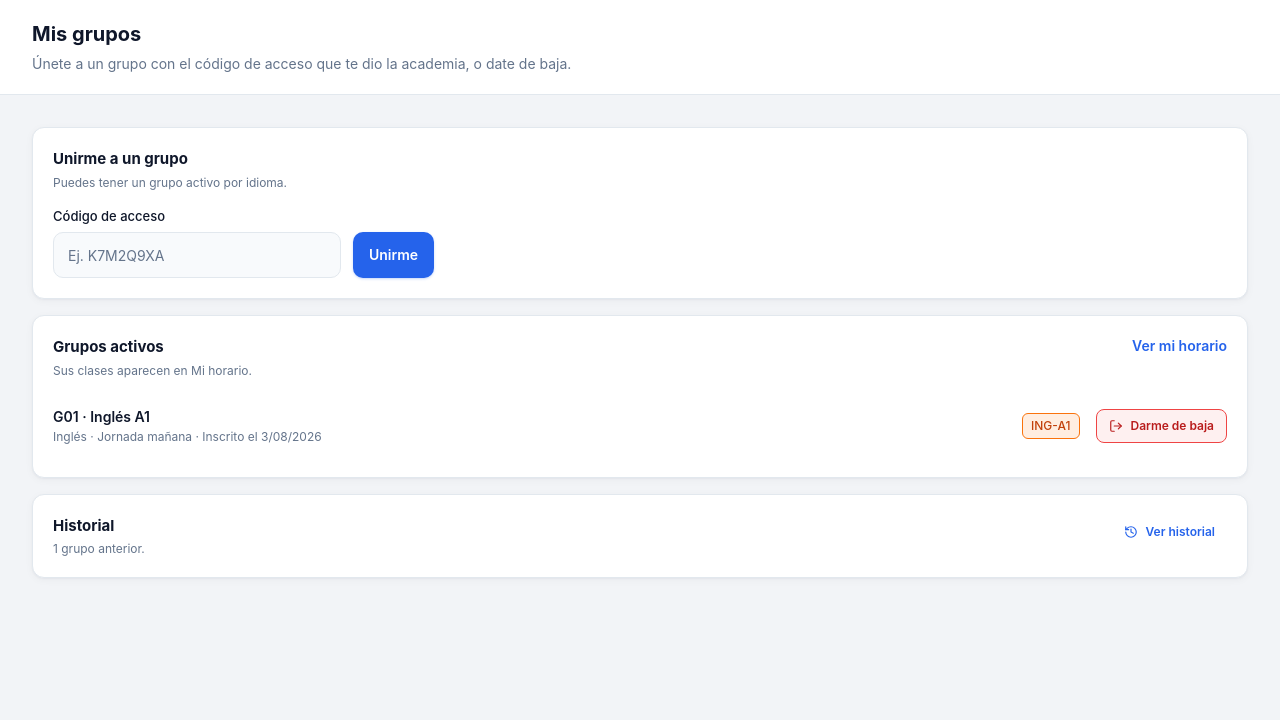
Test: Mis grupos del estudiante (RF-26, RF-27) › lista los grupos activos y deja el historial plegado
Expected: the text "G01 · Inglés A1" is shown, [53,408,150,424]
Expected: the text "G07 · Inglés A1" is not shown
Click the button "Ver historial" at (1169, 532), box [1112,514,1227,548]
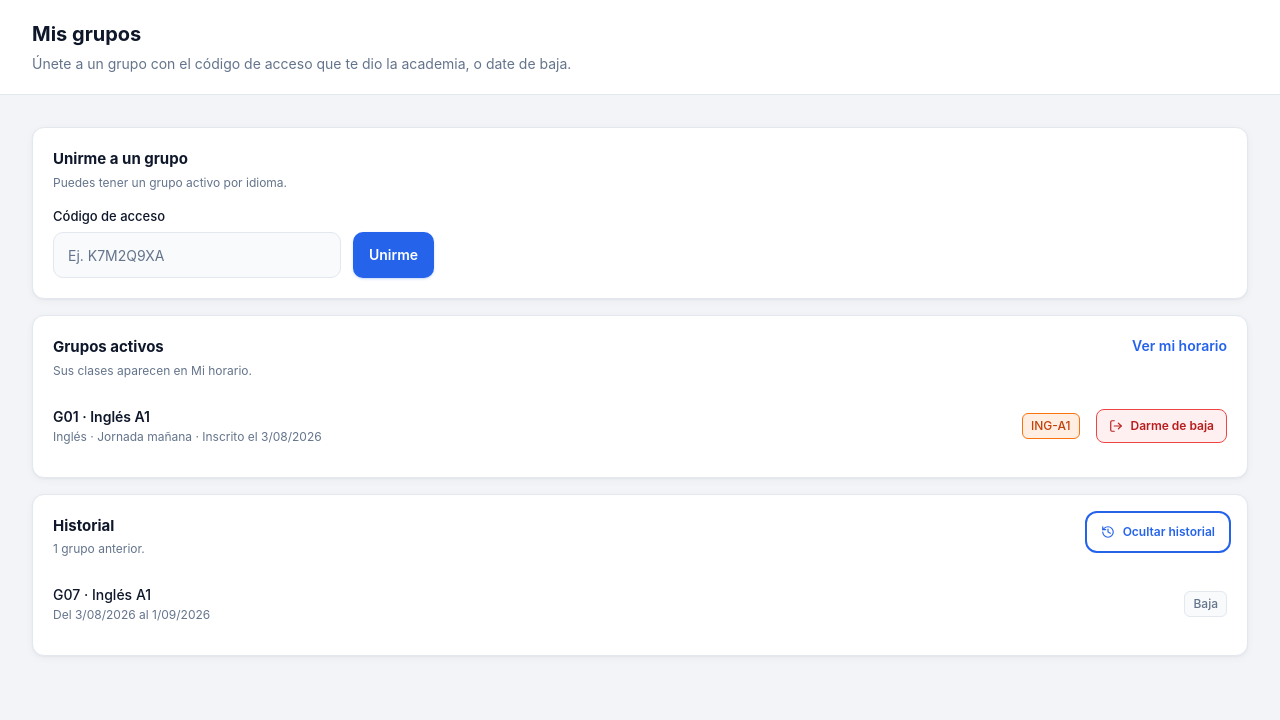
Now the text "G07 · Inglés A1" is shown, box [53,586,151,603]
